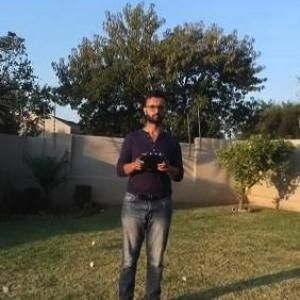follow: (110, 85, 188, 299)
